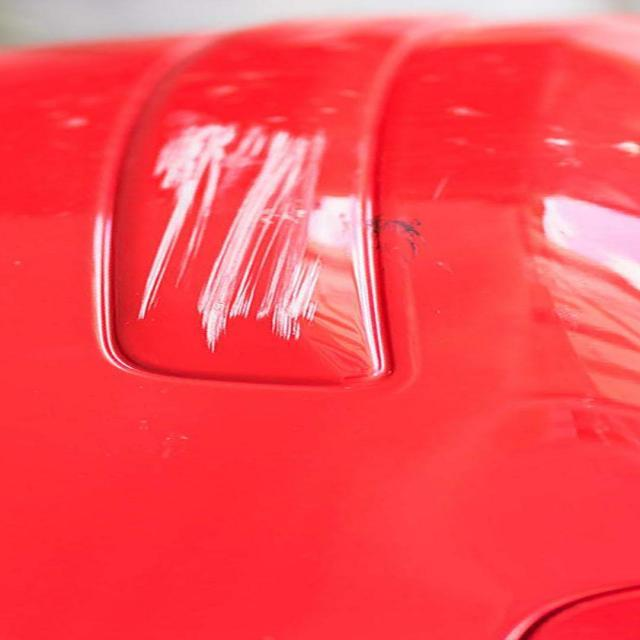scratch: (125, 112, 370, 358)
